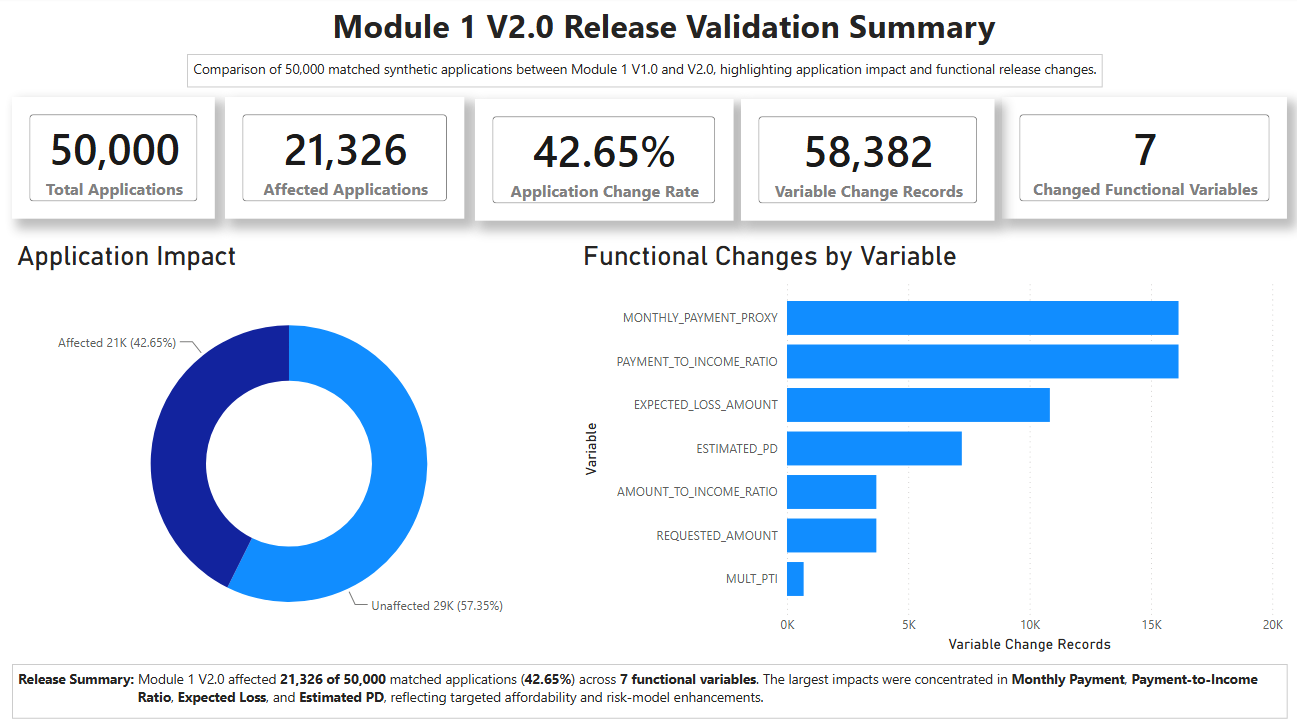

What the dashboard file says about the page in this screenshot:
{"tool":"powerbi","page":{"name":"01 | Executive Summary","canvas":[1280,720],"ordinal":0},"visuals":[{"type":"cardVisual","fields":{"Data":["_Measures.Total Applications"]},"box":[11.7,99,200.2,120.3],"z":0},{"type":"clusteredBarChart","title":"Functional Changes by Variable","fields":{"Category":["FactReconciliationDetail.Variable"],"Y":["_Measures.Variable Change Records"]},"box":[569.7,239.6,699.6,411],"z":1000},{"type":"donutChart","title":"Application Impact","fields":{"Category":["FactReleaseComparison.Functional_Change_Status"],"Y":["_Measures.Total Applications"]},"box":[11.7,239.6,546.3,411],"z":2000},{"type":"cardVisual","fields":{"Data":["_Measures.Affected Applications"]},"box":[221.5,99,236.4,120.3],"z":3000},{"type":"cardVisual","fields":{"Data":["_Measures.Application Change Rate"]},"box":[468.6,100.1,254.5,120.3],"z":4000},{"type":"cardVisual","fields":{"Data":["_Measures.Changed Functional Variables"]},"box":[988.2,99,281.1,120.3],"z":5000},{"type":"cardVisual","fields":{"Data":["_Measures.Variable Change Records"]},"box":[730.5,100.1,250.2,120.3],"z":6000},{"type":"textbox","box":[221.5,0,865.8,56.4],"z":7000},{"type":"textbox","box":[184.2,56.4,903,33],"z":8000},{"type":"textbox","box":[11.7,658.1,1257.6,54.3],"z":9000}]}

Visuals, with their boxes in screenshot pixels (x1, y1, x2, y2), scaled from the page's 1280x720 canvas onto the 1297x725 screenshot:
cardVisual - _Measures.Total Applications: x1=12 y1=100 x2=215 y2=221
"Functional Changes by Variable" clusteredBarChart: x1=577 y1=241 x2=1286 y2=655
"Application Impact" donutChart: x1=12 y1=241 x2=565 y2=655
cardVisual - _Measures.Affected Applications: x1=224 y1=100 x2=464 y2=221
cardVisual - _Measures.Application Change Rate: x1=475 y1=101 x2=733 y2=222
cardVisual - _Measures.Changed Functional Variables: x1=1001 y1=100 x2=1286 y2=221
cardVisual - _Measures.Variable Change Records: x1=740 y1=101 x2=994 y2=222
textbox: x1=224 y1=0 x2=1102 y2=57
textbox: x1=187 y1=57 x2=1102 y2=90
textbox: x1=12 y1=663 x2=1286 y2=717
